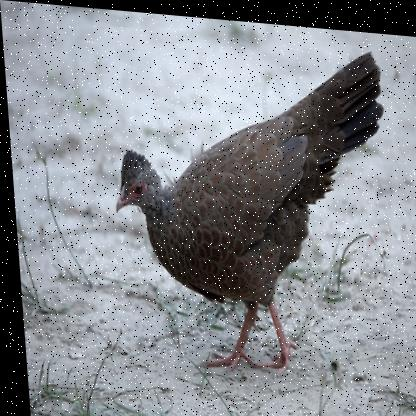Burung: (103, 27, 401, 379)
